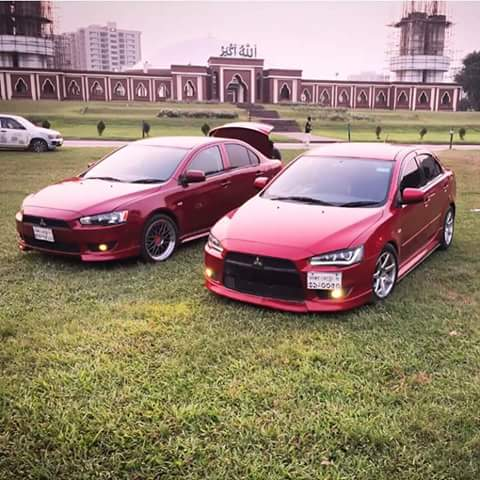registration_plate: (306, 270, 342, 290), (32, 225, 55, 242)
